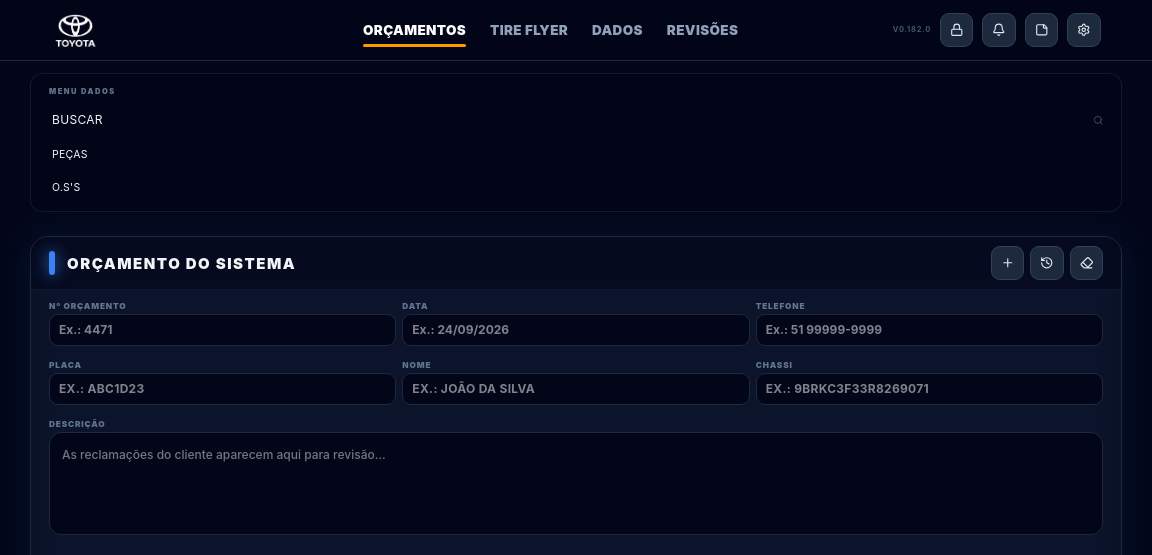
App — smoke test (render + processar) › ao processar, mostra o resumo com os valores calculados
Type "ABC1D23" into the field with placeholder "Ex.: ABC1D23" at (223, 389), box x1=49 y1=373 x2=396 y2=405
(page scrolled)
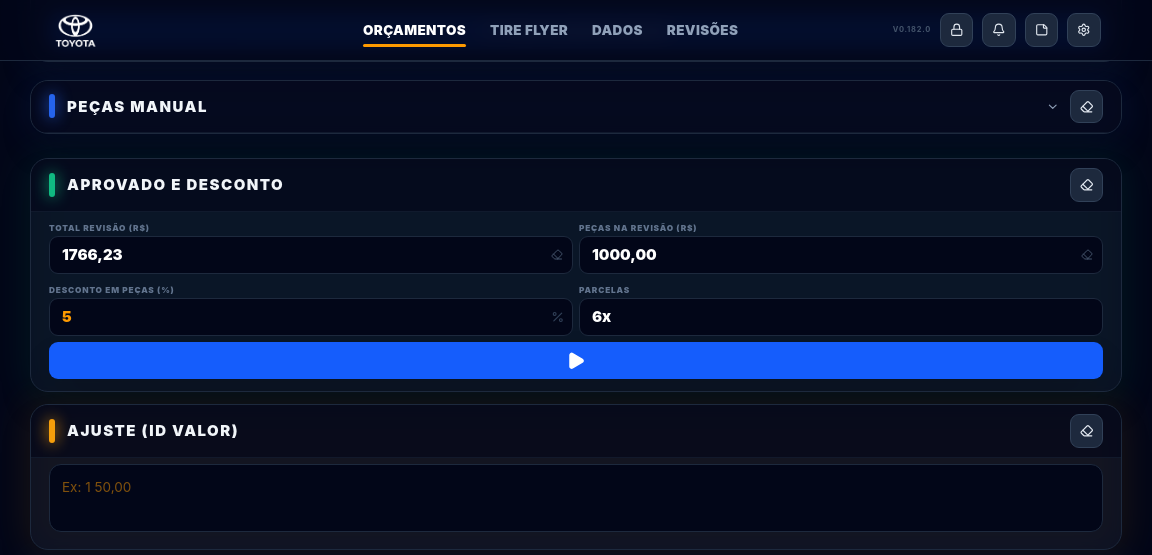
Click the button named "Processar Tudo" at (576, 360), box x1=49 y1=342 x2=1103 y2=379
(page scrolled)
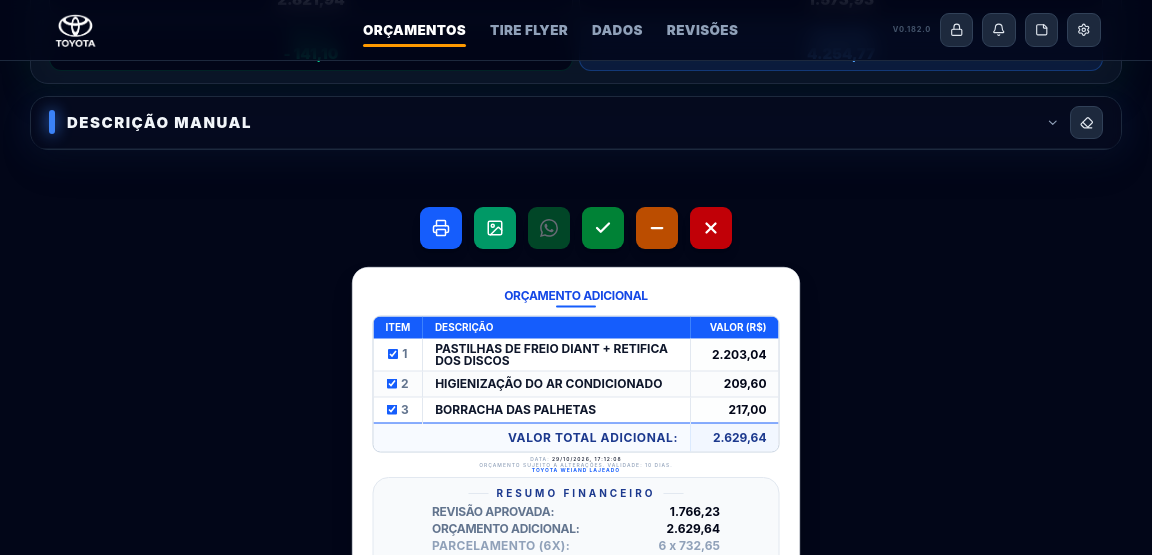
Expected: the heading "Orçamento Adicional" is shown, x1=504 y1=288 x2=648 y2=302
Expected: the text "4.254,77" is shown, x1=807 y1=44 x2=875 y2=63
Expected: the text "PASTILHAS DE FREIO DIANT + RETIFICA DOS DISCOS" is shown, x1=423 y1=338 x2=690 y2=370
